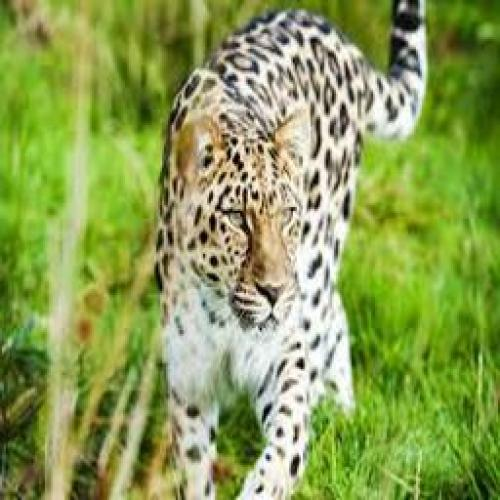amur_leopard-endangered: (156, 6, 411, 500)
